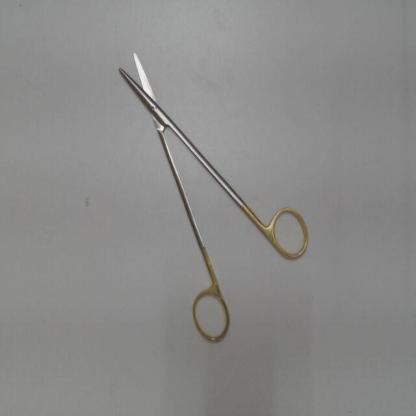7 Metzenbaum Scissors: (110, 42, 314, 351)
